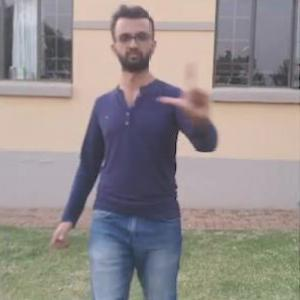land_hand: (157, 57, 209, 118)
